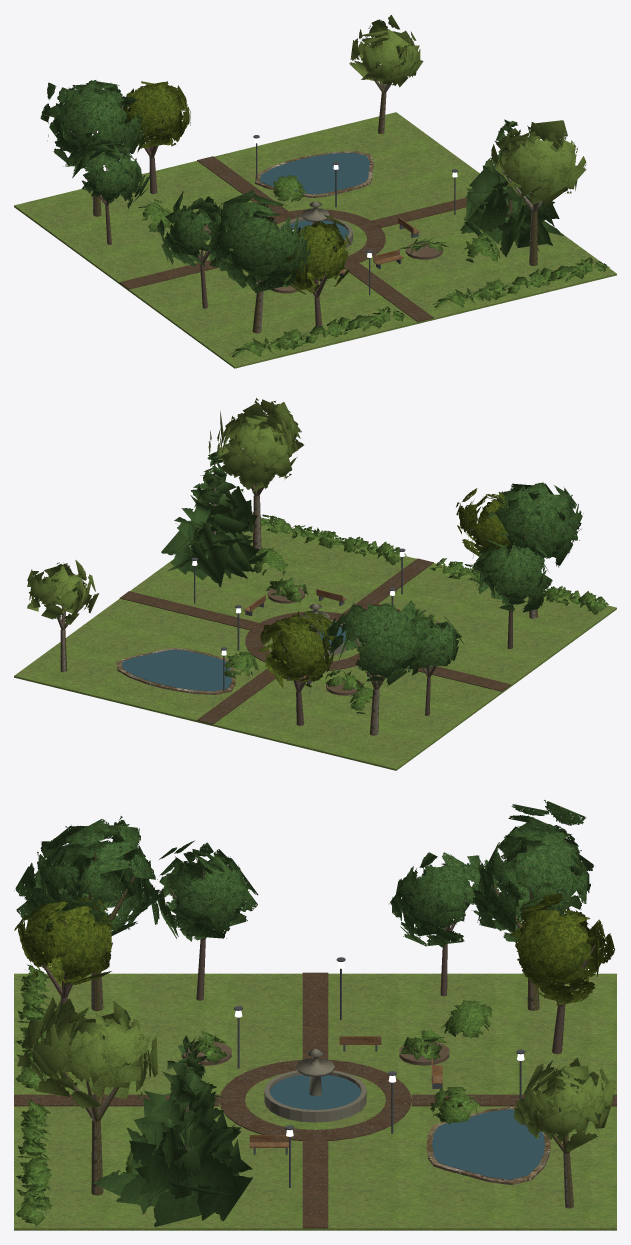
File: park.glb
3 views of the same model, one above another, from view 1: azimuth 30°, elevation 25°; view 2: azimuth 150°, elevation 25°; view 3: azimuth 270°, elevation 25° (orthographic). The views are drawn at different scales.
Parts seen in each view (by area): view 1: park_body, park_foliage; view 2: park_body, park_foliage; view 3: park_body, park_foliage.
Part boxes in pixels (box(x1,y1,x2,y2)): park_body: box(14, 46, 616, 368); park_foliage: box(40, 15, 609, 357); park_body: box(14, 461, 616, 770); park_foliage: box(27, 398, 608, 714); park_body: box(14, 852, 616, 1230); park_foliage: box(14, 800, 616, 1226).
Size of the model in its own units: 0.94 by 0.332 by 0.94.
16 materials, 13 textured.
